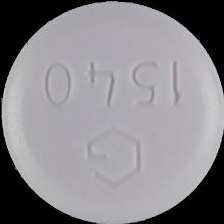59762-1540: (0, 0, 224, 224)
